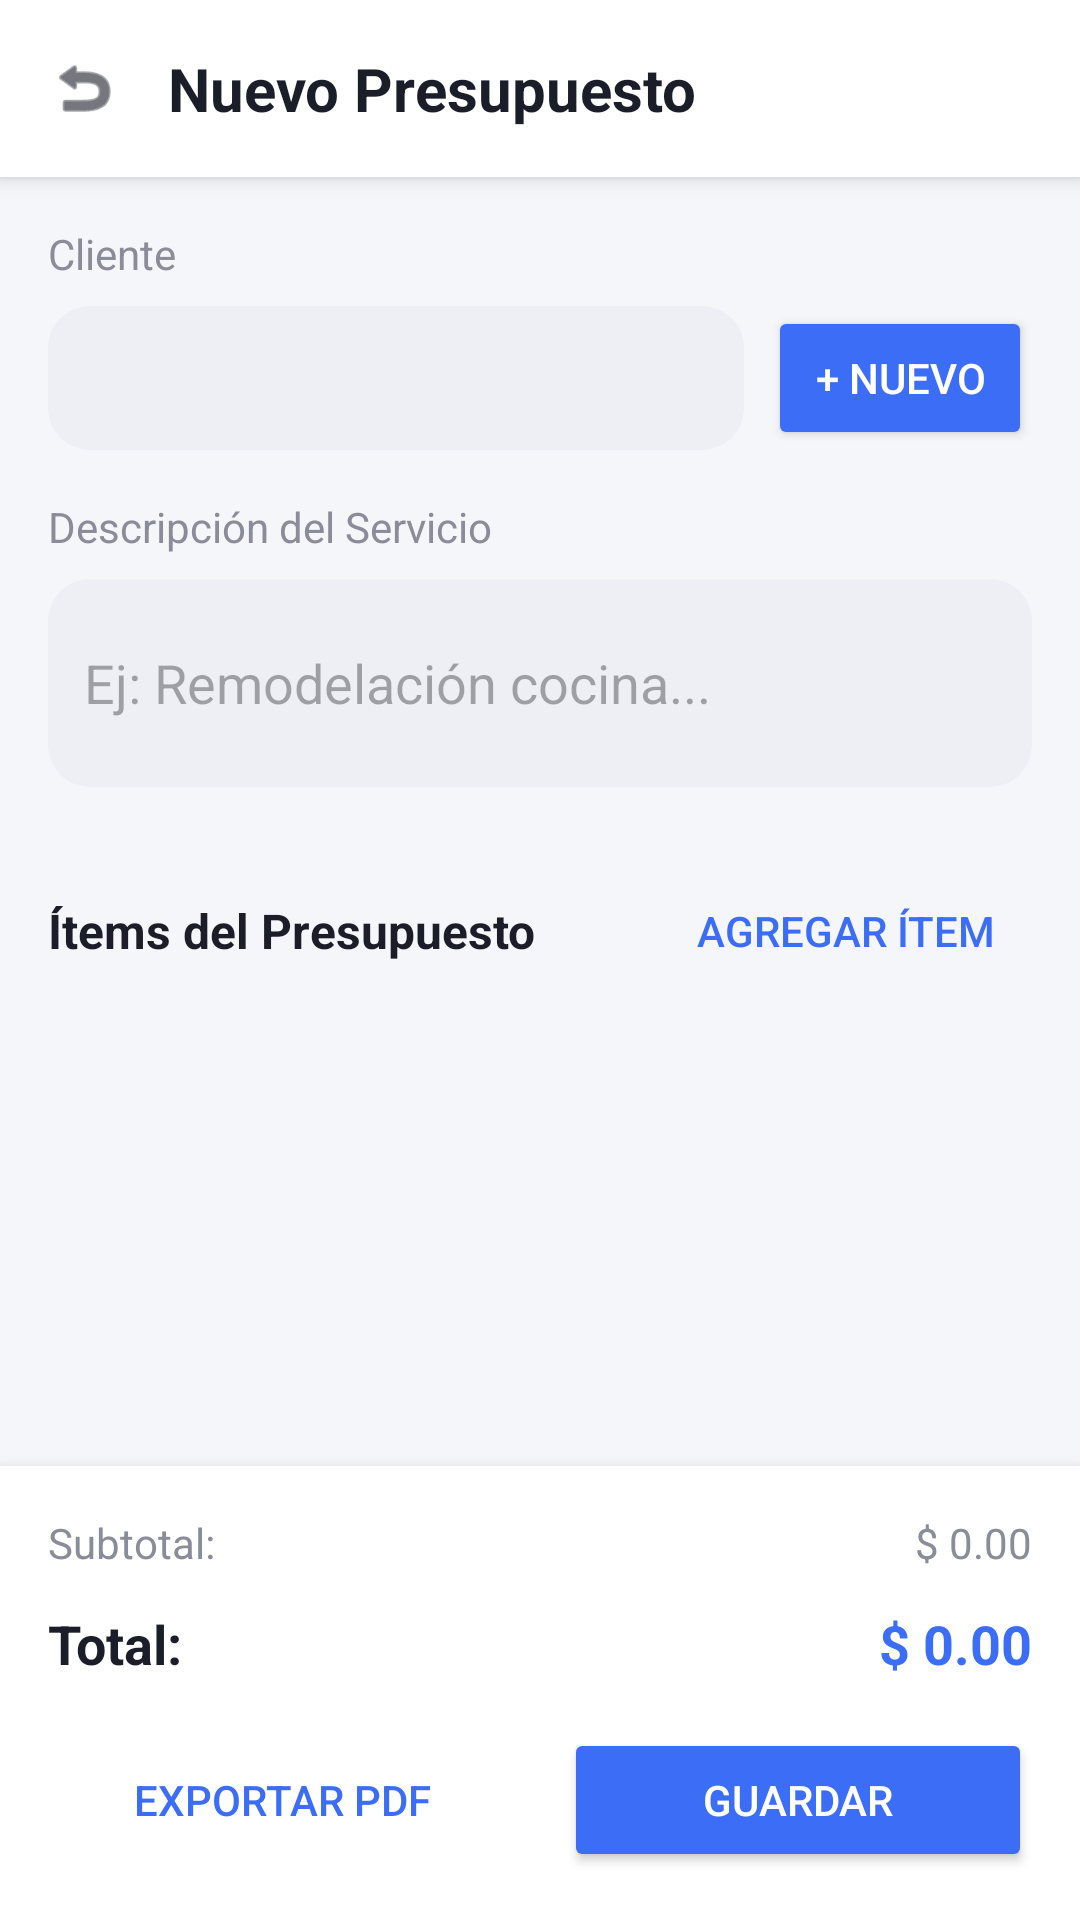

Screen size 1080 × 1920. Icon name, then its box in pixels as (x1,y1,x2,y2):
revert: (59,65,111,112)
